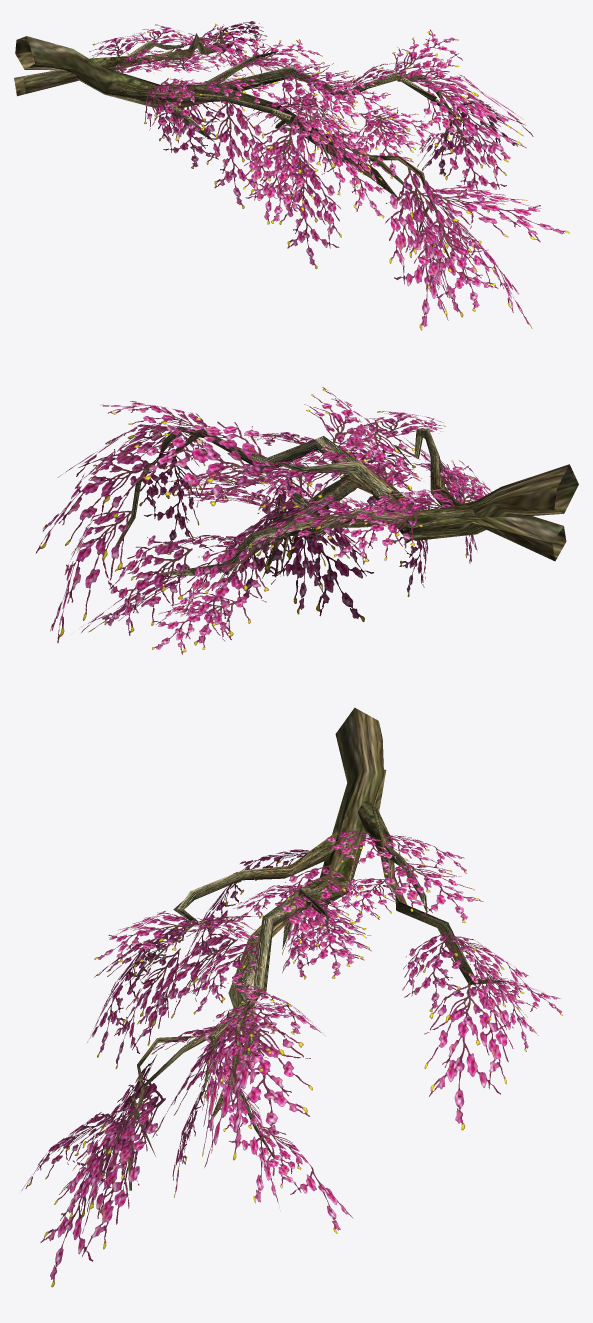
Rendered from S_Tree_Red003.FBX.
3 views of the same model, one above another, from view 1: azimuth 30°, elevation 25°; view 2: azimuth 150°, elevation 25°; view 3: azimuth 270°, elevation 25° (orthographic). The views are drawn at different scales.
Parts seen in each view (by area): view 1: S_Tree_Yellow042; view 2: S_Tree_Yellow042; view 3: S_Tree_Yellow042.
Boxes of the visible parts, x1,y1,x2,y2 form: S_Tree_Yellow042: (14,21,569,330); S_Tree_Yellow042: (36,387,578,654); S_Tree_Yellow042: (21,707,562,1287).
Bounding box in the file's own units: 747 × 621 × 442.
